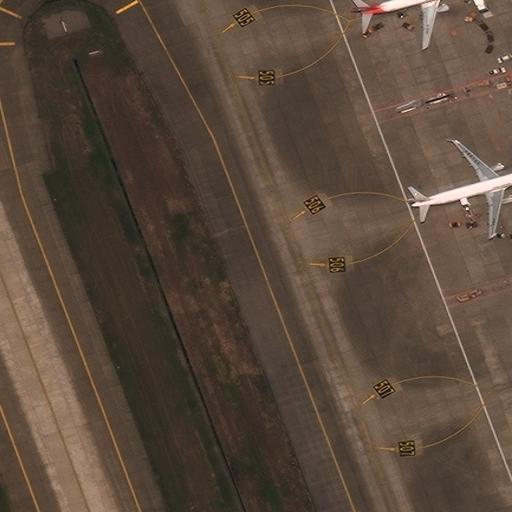Medium Civil Transport: (407, 137, 512, 234), (357, 0, 469, 48)
